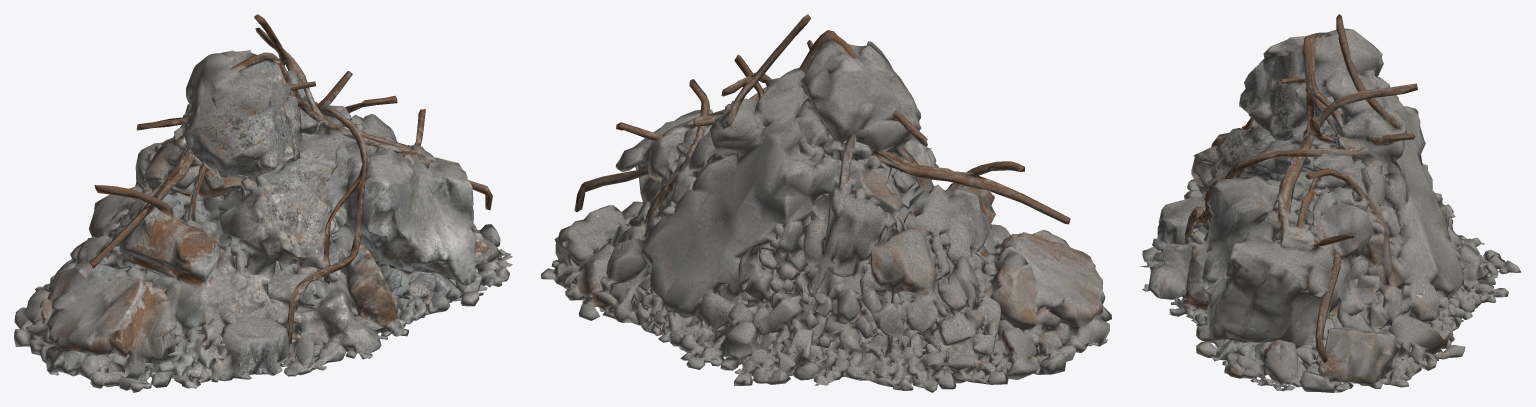
Rendered from rubble.glb.
3 renders of one model, left to right at view 1: azimuth 30°, elevation 25°; view 2: azimuth 150°, elevation 25°; view 3: azimuth 270°, elevation 25°, orthographic. The views are drawn at different scales.
Bounding box in the file's own units: 1.89 × 1.05 × 1.34.
Materials: 1 (1 with a texture image).
